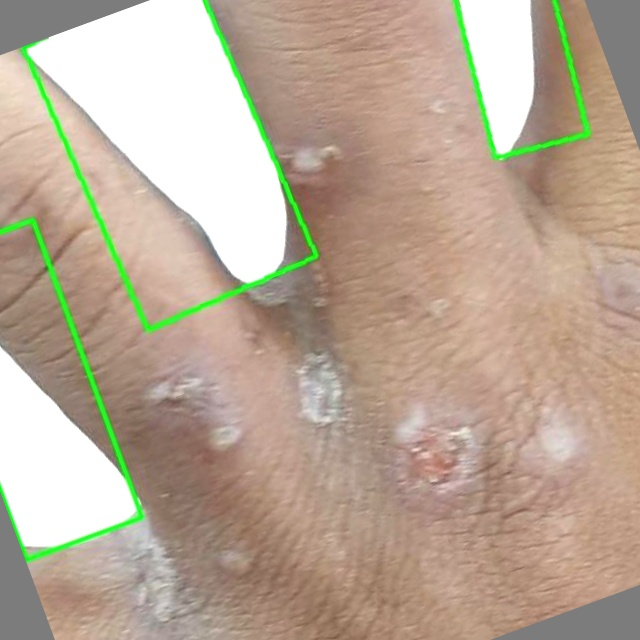Scabies: (24, 0, 317, 330), (0, 219, 143, 561)
